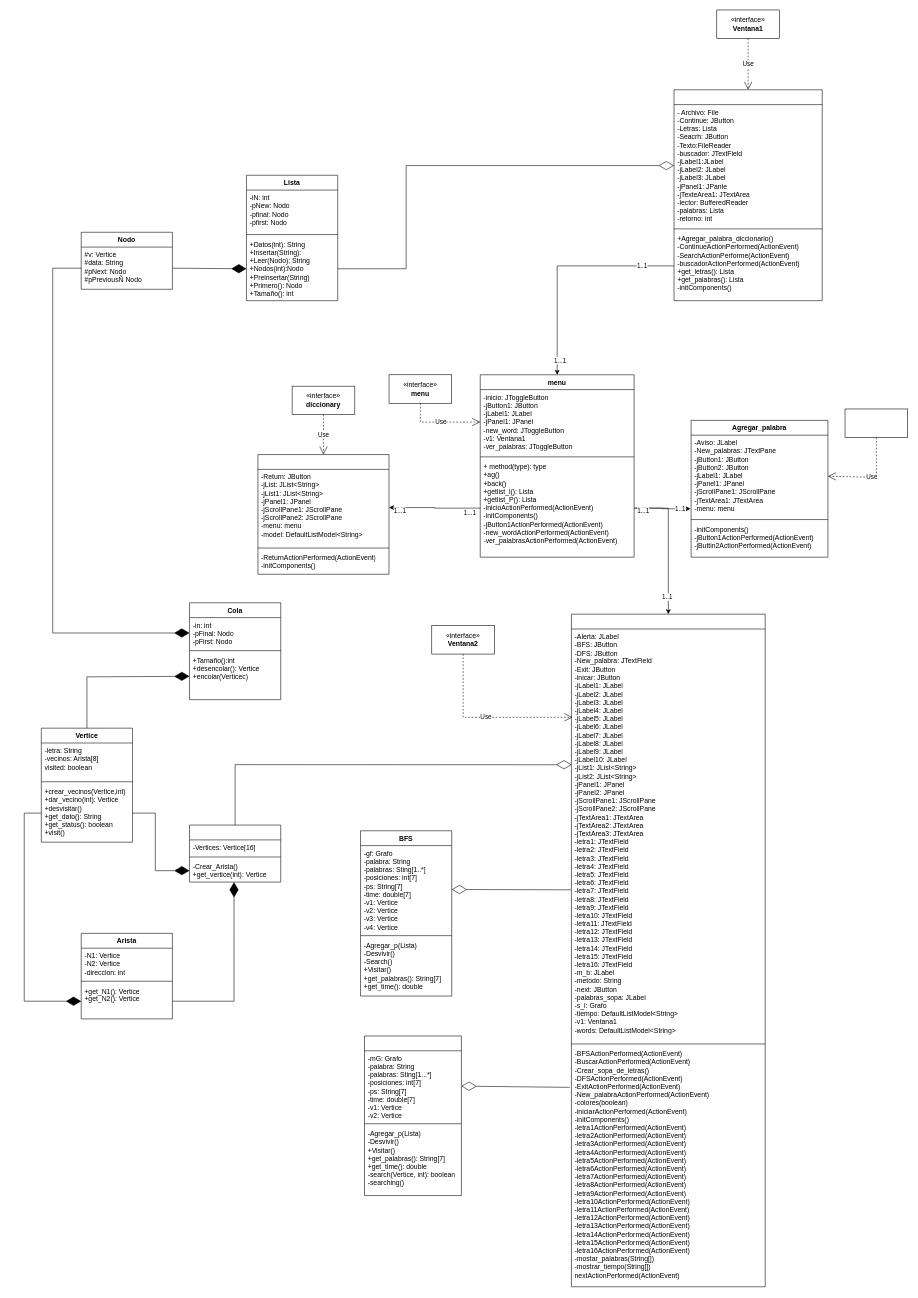
This 918x1298 diagram has some shape labels left out. The shapes that lost their labels are listed below. From the top down, each one's box as (x1, y1, x2, y2) in pixels, then its label:
(673, 89, 822, 301): Ventana1
(844, 408, 908, 437): «interface» Agregar_palabra
(257, 454, 389, 574): diccionary
(189, 825, 281, 882): Grafo
(571, 614, 765, 1287): Ventana2
(364, 1035, 461, 1196): DFS
